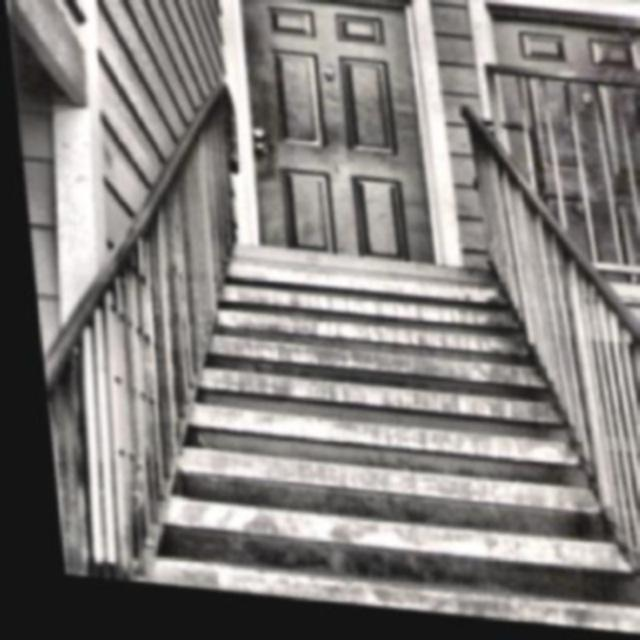stair: (216, 225, 560, 608)
